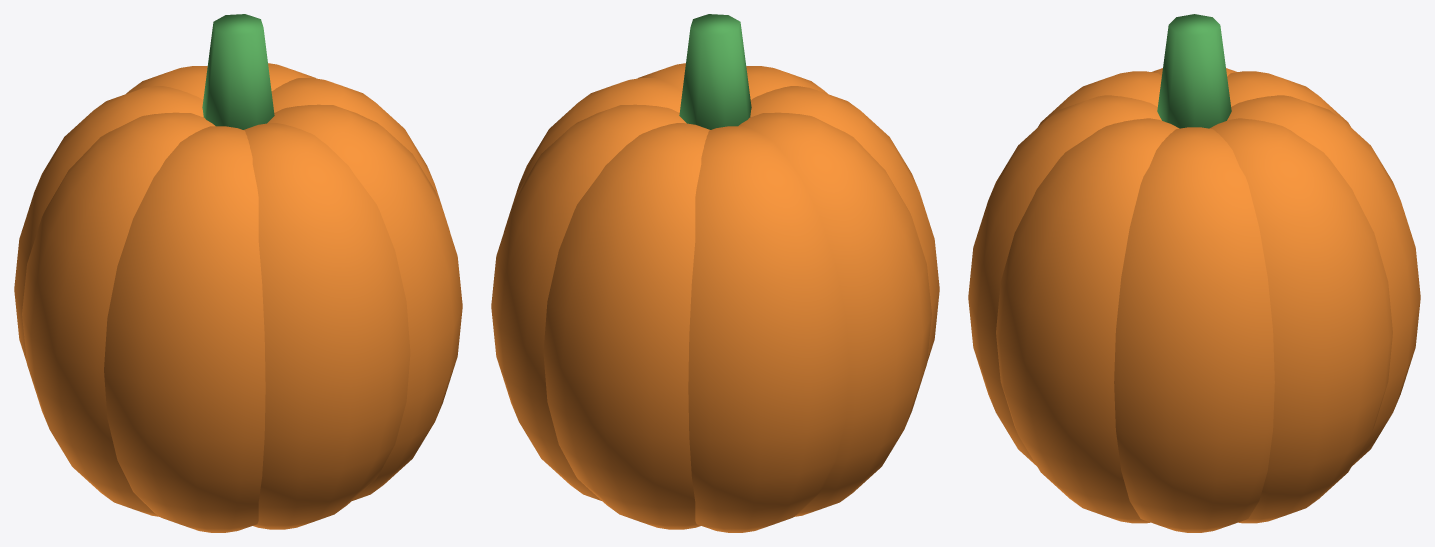
The model's file is pumpkin.glb.
3 renders of one model, left to right at view 1: azimuth 30°, elevation 25°; view 2: azimuth 150°, elevation 25°; view 3: azimuth 270°, elevation 25°, orthographic.
Parts seen in each view (by area): view 1: pumpkin; view 2: pumpkin; view 3: pumpkin.
Part boxes in pixels (bbox=[...]): pumpkin: bbox=[14, 14, 462, 532]; pumpkin: bbox=[491, 14, 939, 532]; pumpkin: bbox=[968, 14, 1420, 532].
Bounding box in the file's own units: 0.8717 × 1 × 0.8805.
